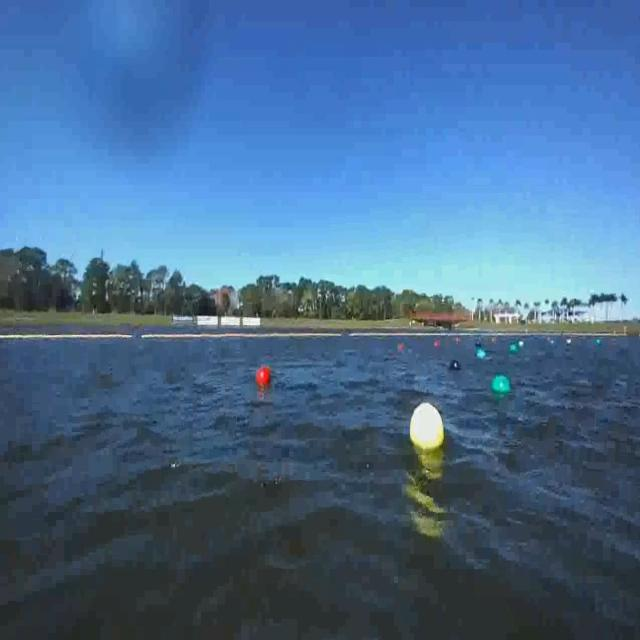black-buoy: (449, 359, 462, 371)
green-buoy: (491, 373, 510, 394), (511, 344, 520, 356)
red-buoy: (259, 366, 273, 384)
yellow-buoy: (410, 405, 446, 453)
